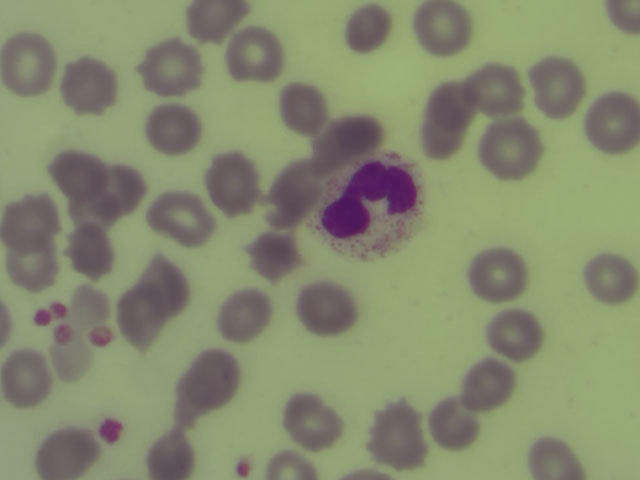Platelets: (31, 299, 68, 332), (96, 419, 125, 443), (89, 326, 116, 346), (233, 453, 252, 480)
RBC: (143, 193, 216, 245), (34, 424, 93, 480), (266, 158, 313, 223), (316, 113, 386, 154), (300, 281, 353, 334), (585, 97, 638, 150), (481, 121, 534, 174), (419, 97, 472, 150), (583, 253, 636, 306), (469, 249, 522, 302), (488, 308, 541, 361), (463, 357, 516, 410), (429, 396, 482, 449), (369, 409, 422, 462), (214, 288, 267, 341), (288, 393, 341, 446), (146, 427, 199, 480), (185, 352, 238, 405), (1, 350, 54, 403), (136, 258, 189, 311), (114, 292, 167, 345), (1, 240, 54, 293), (66, 226, 119, 279), (50, 147, 103, 200), (207, 153, 260, 206), (276, 77, 329, 130), (145, 100, 198, 153), (418, 1, 471, 54), (340, 2, 393, 55), (227, 30, 280, 83), (144, 40, 197, 93), (65, 59, 118, 112), (248, 229, 301, 282), (533, 59, 586, 112), (465, 60, 518, 113), (1, 38, 53, 91), (1, 197, 52, 250), (528, 432, 580, 480), (98, 167, 148, 213), (186, 1, 249, 36), (67, 189, 118, 229), (264, 445, 319, 480)
WBC: (324, 159, 423, 251)
